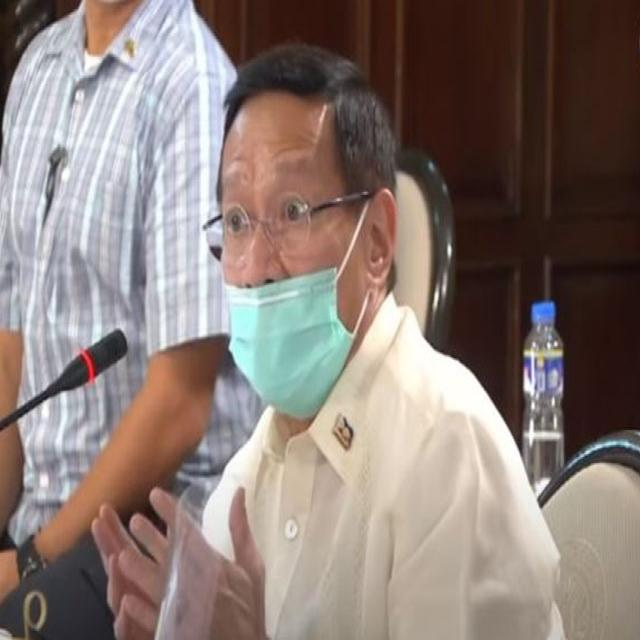mask: (215, 264, 372, 430)
